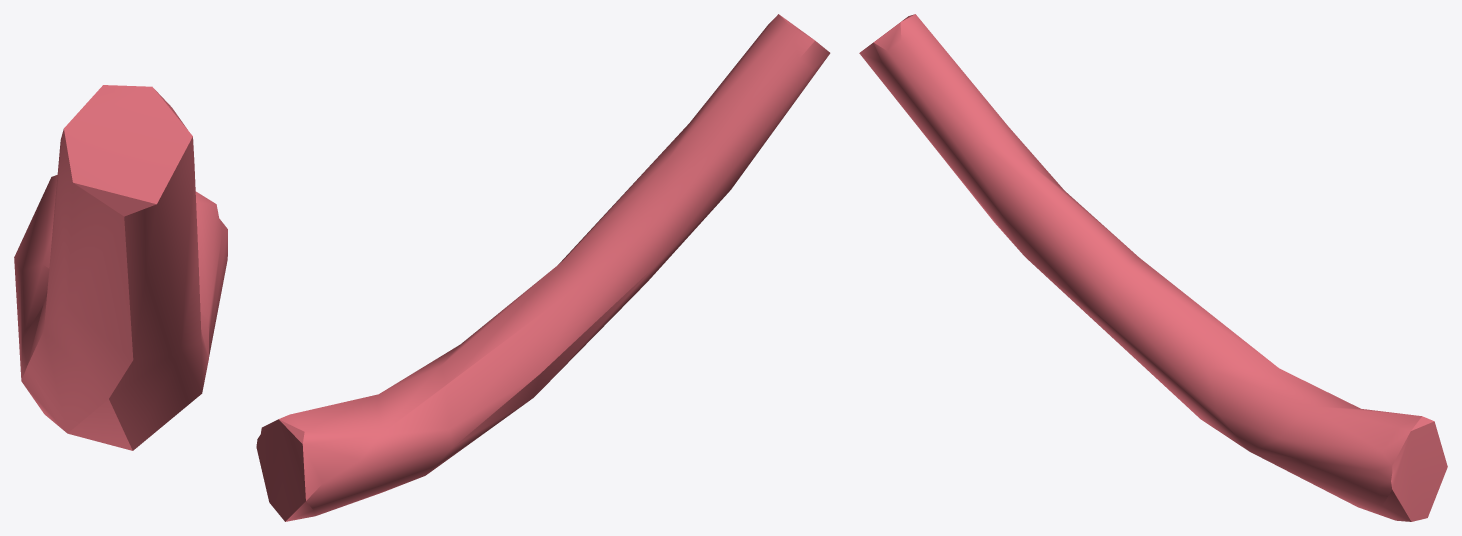
The model's file is fma68683_fj2979.glb.
The picture shows the model from 3 angles, left to right: view 1: azimuth 30°, elevation 25°; view 2: azimuth 150°, elevation 25°; view 3: azimuth 270°, elevation 25°; orthographic projection. The views are drawn at different scales.
Parts seen in each view (by area): view 1: FMA68683_FJ2979; view 2: FMA68683_FJ2979; view 3: FMA68683_FJ2979.
Part boxes in pixels (bbox=[...]): FMA68683_FJ2979: bbox=[14, 85, 227, 450]; FMA68683_FJ2979: bbox=[256, 14, 830, 521]; FMA68683_FJ2979: bbox=[859, 14, 1447, 521].
Bounding box in the file's own units: 0.0096 × 0.0106 × 0.0148.
